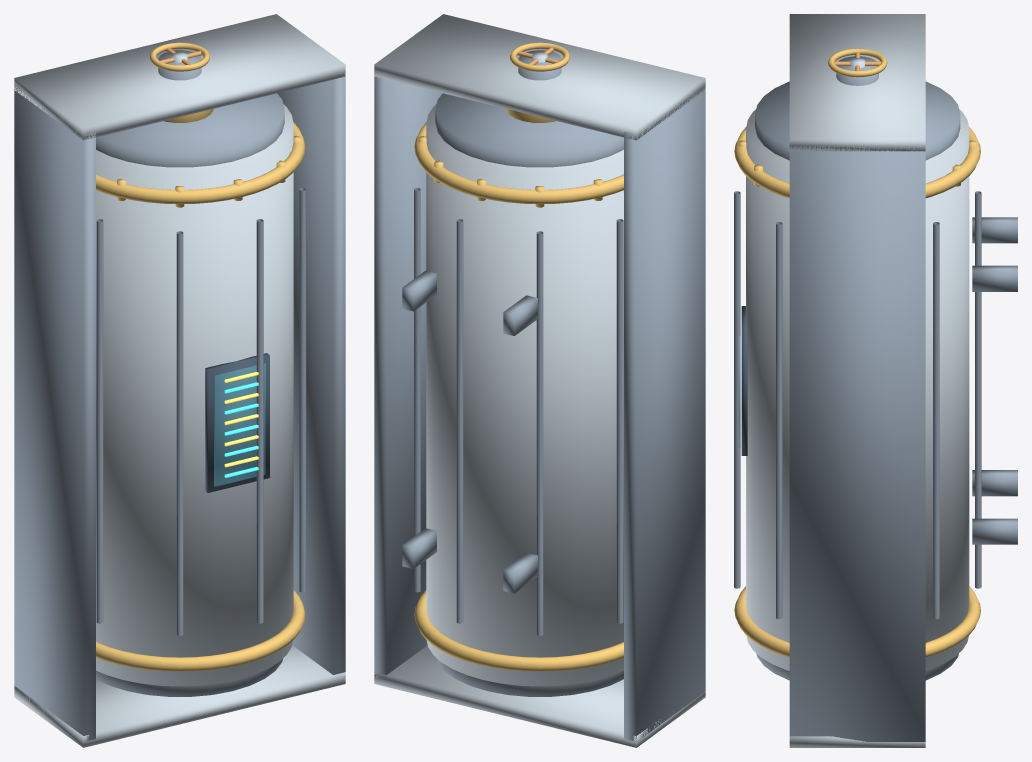
Rendered from 12_L88_DualAdsorberTowerA.fbx.
3 renders of one model, left to right at view 1: azimuth 30°, elevation 25°; view 2: azimuth 150°, elevation 25°; view 3: azimuth 270°, elevation 25°, orthographic.
Parts seen in each view (by area): view 1: L87_DualAdsorberTowerA_Part_0000, L87_DualAdsorberTowerA_Part_0001, L87_DualAdsorberTowerA_Part_0002, L87_DualAdsorberTowerA_Part_0003, L87_DualAdsorberTowerA_Part_0004, L87_DualAdsorberTowerA_Part_0009, L87_DualAdsorberTowerA_Part_0006, L87_DualAdsorberTowerA_Part_0005; view 2: L87_DualAdsorberTowerA_Part_0000, L87_DualAdsorberTowerA_Part_0001, L87_DualAdsorberTowerA_Part_0002, L87_DualAdsorberTowerA_Part_0009; view 3: L87_DualAdsorberTowerA_Part_0001, L87_DualAdsorberTowerA_Part_0000, L87_DualAdsorberTowerA_Part_0002, L87_DualAdsorberTowerA_Part_0003, L87_DualAdsorberTowerA_Part_0009.
Part boxes in pixels (x1,y1,x2,y2): L87_DualAdsorberTowerA_Part_0000: (14,14,345,747); L87_DualAdsorberTowerA_Part_0001: (14,50,345,740); L87_DualAdsorberTowerA_Part_0002: (96,109,305,671); L87_DualAdsorberTowerA_Part_0003: (205,353,269,492); L87_DualAdsorberTowerA_Part_0004: (214,363,265,486); L87_DualAdsorberTowerA_Part_0009: (150,42,209,71); L87_DualAdsorberTowerA_Part_0006: (224,372,258,467); L87_DualAdsorberTowerA_Part_0005: (224,382,258,477); L87_DualAdsorberTowerA_Part_0000: (374,14,705,747); L87_DualAdsorberTowerA_Part_0001: (374,50,705,741); L87_DualAdsorberTowerA_Part_0002: (414,109,623,671); L87_DualAdsorberTowerA_Part_0009: (510,42,569,71); L87_DualAdsorberTowerA_Part_0001: (734,56,1017,741); L87_DualAdsorberTowerA_Part_0000: (746,14,969,747); L87_DualAdsorberTowerA_Part_0002: (734,127,980,657); L87_DualAdsorberTowerA_Part_0003: (741,306,747,455); L87_DualAdsorberTowerA_Part_0009: (828,48,887,77).
Size of the model in its own units: 2.08 by 4.82 by 1.98.
